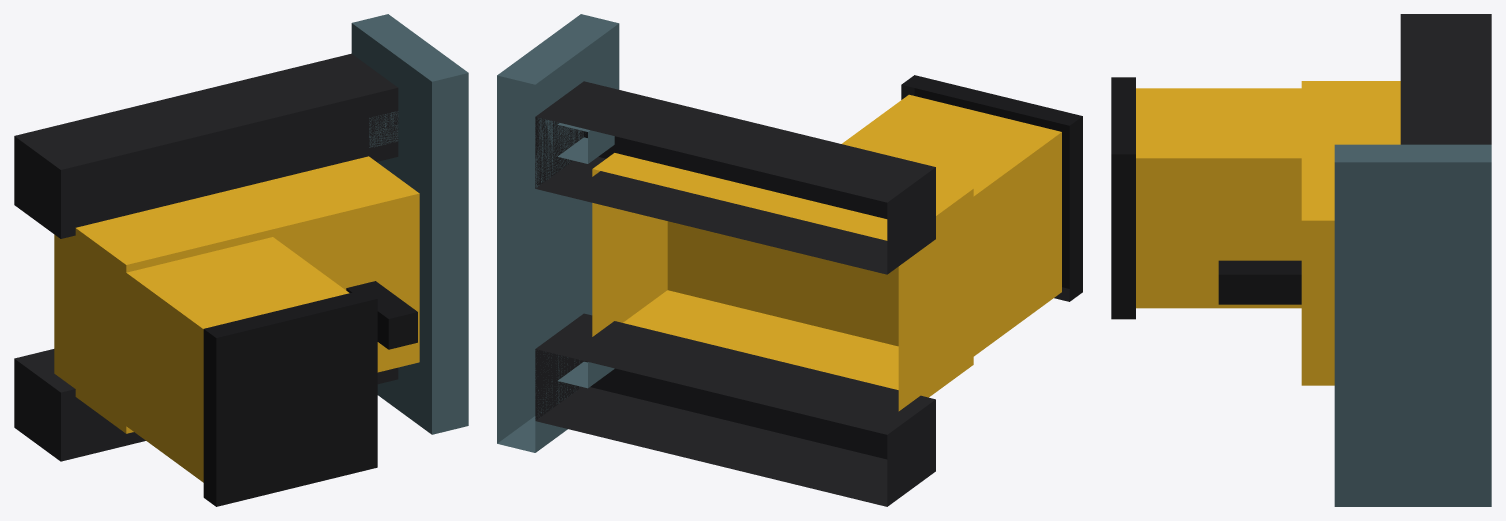
3 renders of one model, left to right at view 1: azimuth 30°, elevation 25°; view 2: azimuth 150°, elevation 25°; view 3: azimuth 270°, elevation 25°, orthographic. The views are drawn at different scales.
Visible parts, largest first — view 1: effect_bulldozer_default; view 2: effect_bulldozer_default; view 3: effect_bulldozer_default.
Part boxes in pixels (box(x1,y1,x2,y2)): effect_bulldozer_default: box(14, 14, 468, 506); effect_bulldozer_default: box(497, 14, 1082, 506); effect_bulldozer_default: box(1111, 14, 1491, 506).
Bounding box in the file's own units: 5.1 × 4.6 × 4.6.
